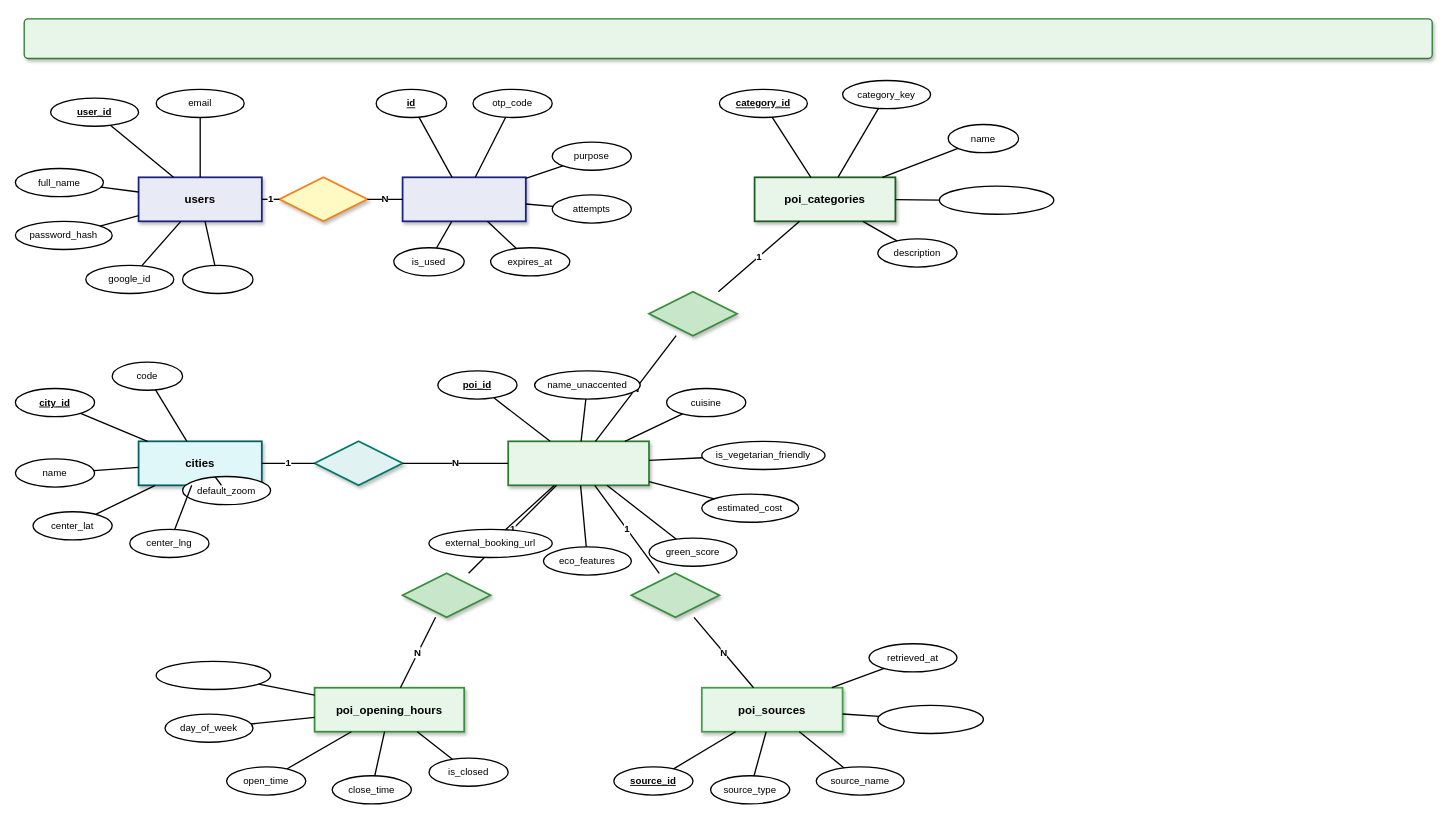
This 1454x820 diagram has some shape labels left out. Each missing label, with the centre of its shape:
"ai_assisted_flag" goes at [930,719].
"classifies" goes at [693,314].
"contains" goes at [359,464].
"email_otps" goes at [465,200].
"GreenTrip AI — Sprint 1: Entity Relationship Diagram (Chen Notation)" goes at [729,39].
"has_hours" goes at [447,596].
"has_source" goes at [676,596].
"is_green_category" goes at [996,200].
"opening_hour_id" goes at [213,675].
"pois" goes at [579,464].
"role" goes at [217,279].
"verifies" goes at [324,200].
